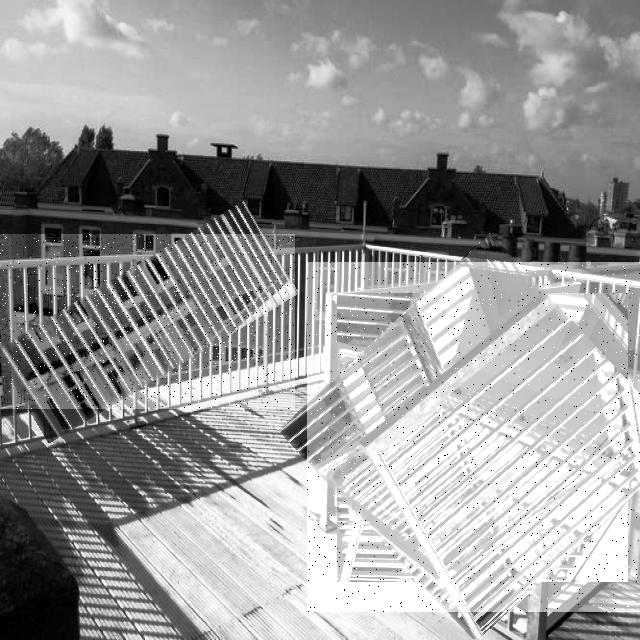fences: (307, 262, 640, 612), (0, 234, 295, 409)
